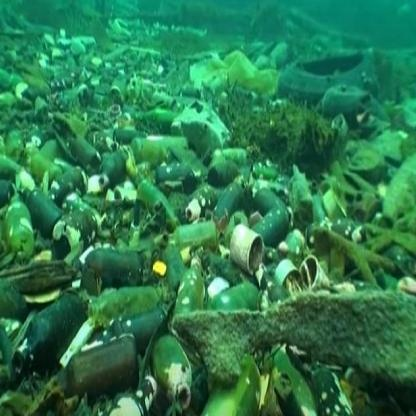gbottle: (132, 295, 208, 412), (156, 293, 208, 400), (131, 147, 182, 242), (69, 332, 142, 392), (19, 167, 70, 232), (167, 214, 225, 266)
